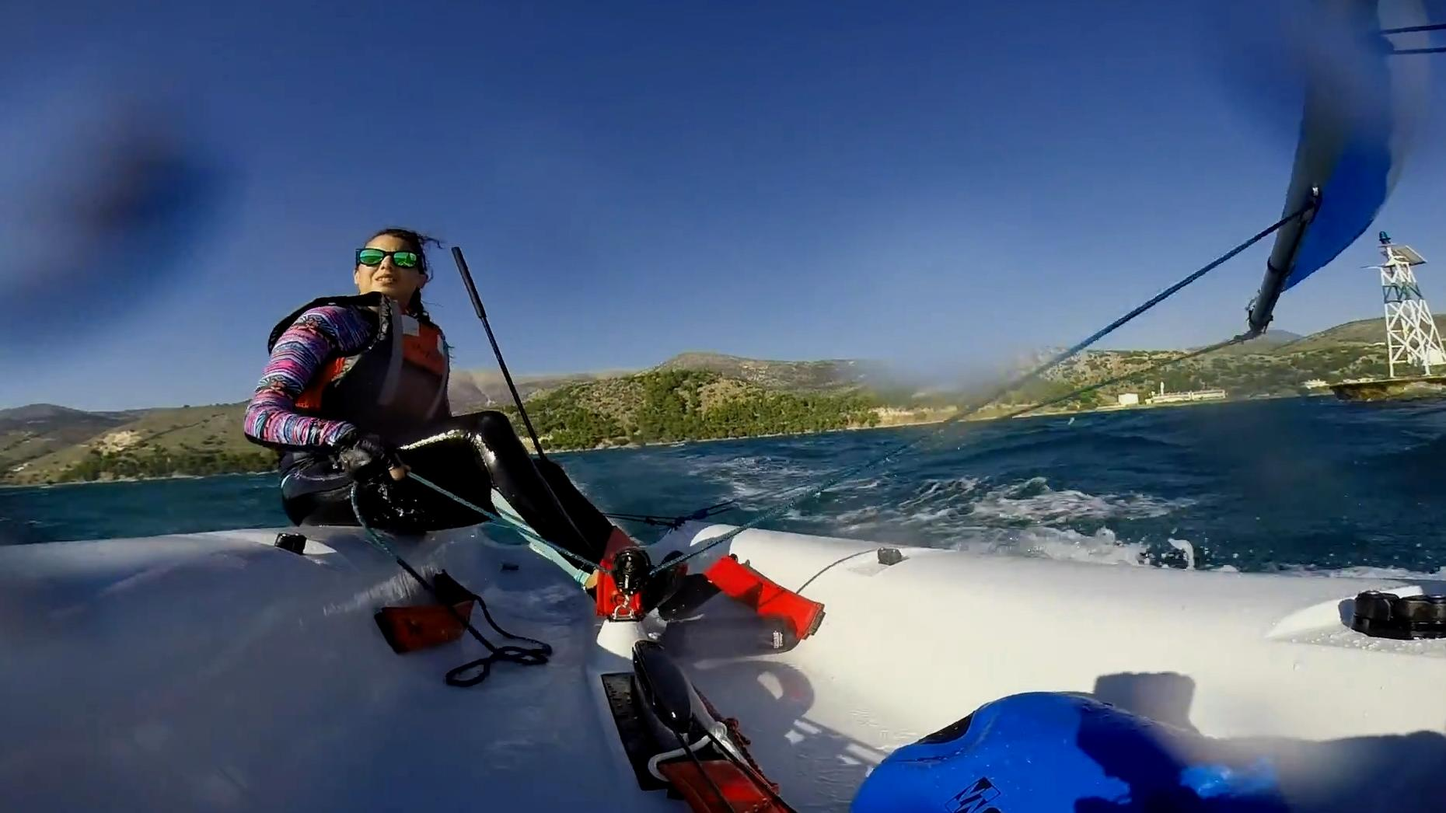boat: (0, 520, 1446, 813), (1243, 0, 1402, 340)
land: (456, 232, 1446, 450), (0, 405, 277, 488)
person: (244, 232, 683, 616)
sea: (552, 397, 1446, 574), (0, 478, 287, 540)
sky: (0, 0, 1305, 413), (1277, 0, 1446, 337)
